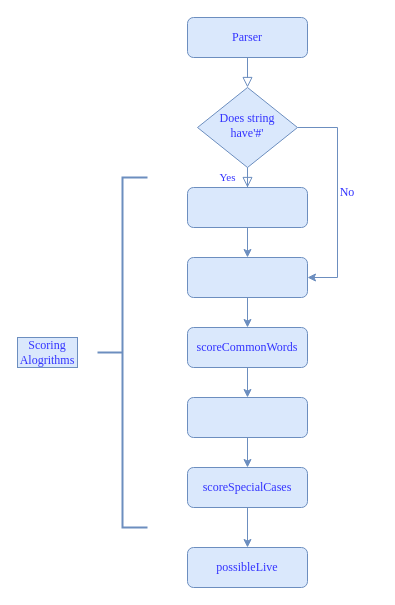
Some shapes in this 395 by 605 pixel diagram are drawn without their labels. The shapes that lost their labels are listed below. From the top down, each one's centre as x and y in pixels, then its label:
At (247,207): "scoreHashTags".
At (247,277): "removeHashTags".
At (247,417): "scoreNameEntities".
